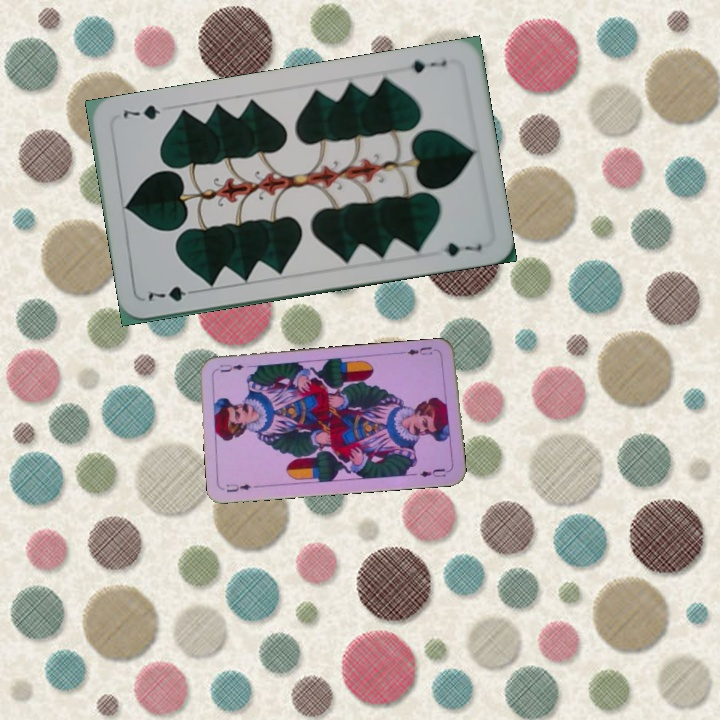EU: (400, 343, 441, 358), (222, 479, 253, 495)
G7: (144, 282, 202, 305), (406, 56, 449, 76)
